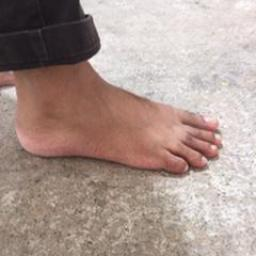Lateral View -Right Foot-: (6, 37, 230, 187)
